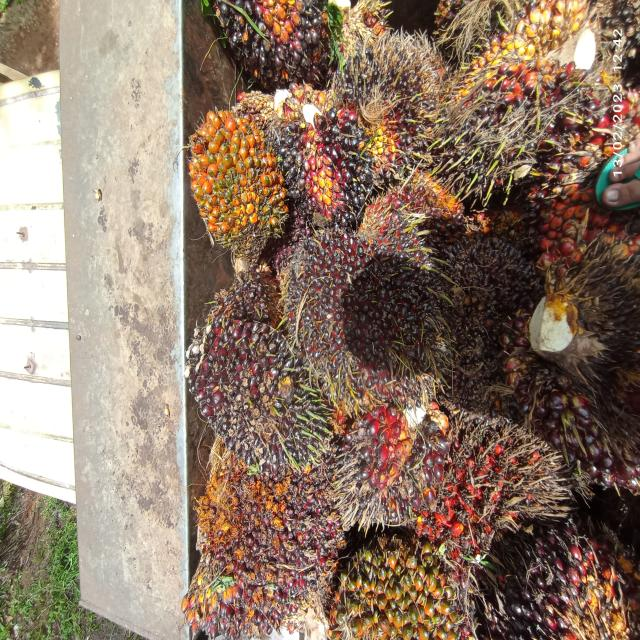fraksi 00: (447, 1, 608, 237), (324, 34, 440, 176), (283, 112, 365, 240)
fraksi 1: (272, 199, 469, 425), (176, 467, 344, 640), (168, 293, 318, 482), (323, 386, 436, 536)
fraksi 4: (164, 110, 299, 264), (414, 433, 568, 562), (330, 531, 466, 640)
